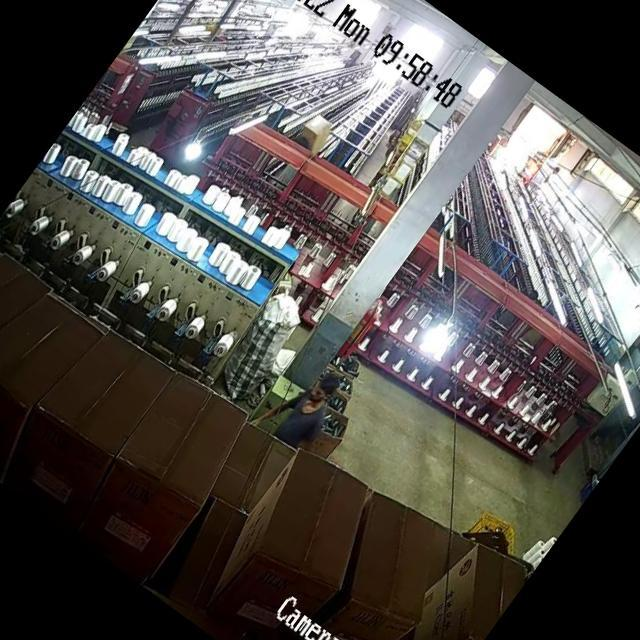person: (278, 370, 343, 439)
